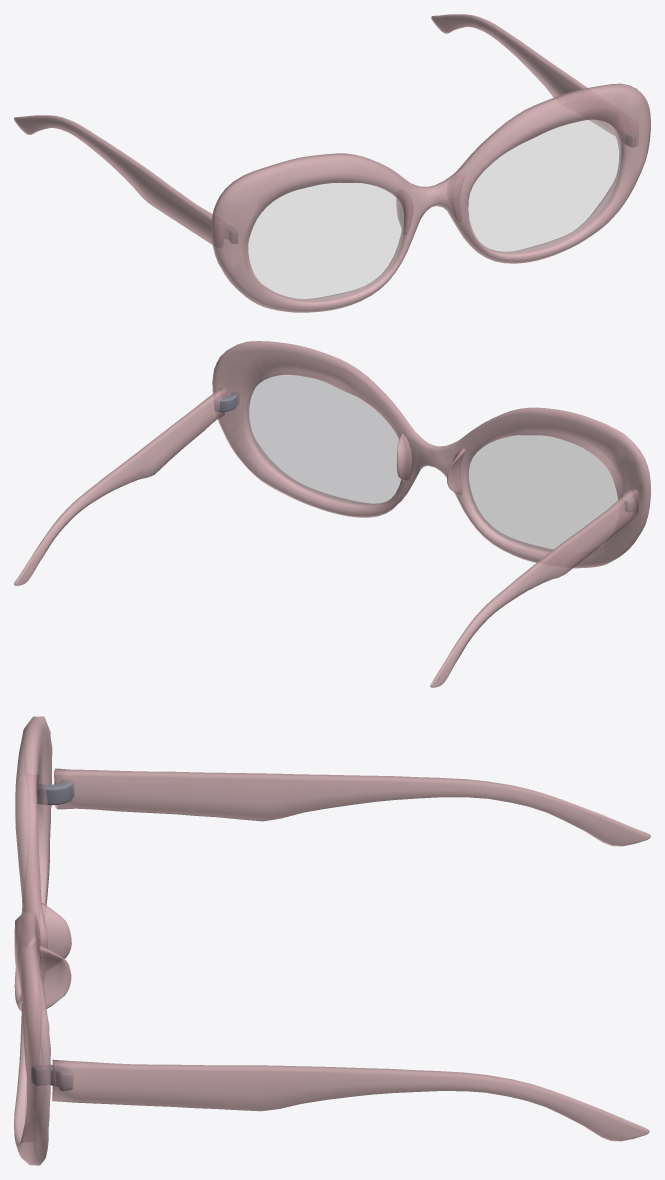
3 views of the same model, one above another, from view 1: azimuth 30°, elevation 25°; view 2: azimuth 150°, elevation 25°; view 3: azimuth 270°, elevation 25° (orthographic). The views are drawn at different scales.
Visible parts, largest first — view 1: model 8.001; view 2: model 8.001; view 3: model 8.001.
Part boxes in pixels (box(x1,y1,x2,y2)): model 8.001: box(14, 14, 650, 312); model 8.001: box(14, 341, 650, 687); model 8.001: box(14, 716, 650, 1165).
Size of the model in its own units: 3.05 by 1.05 by 2.66.
